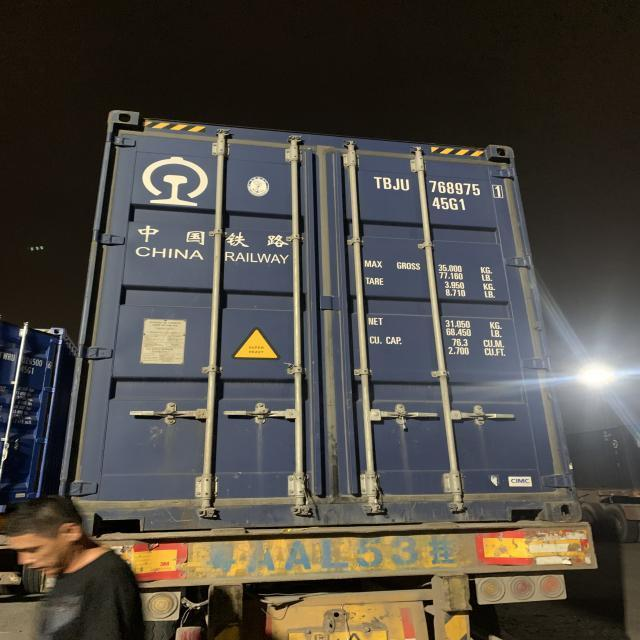ISO: (436, 198, 468, 214)
container_number: (366, 166, 508, 199)
